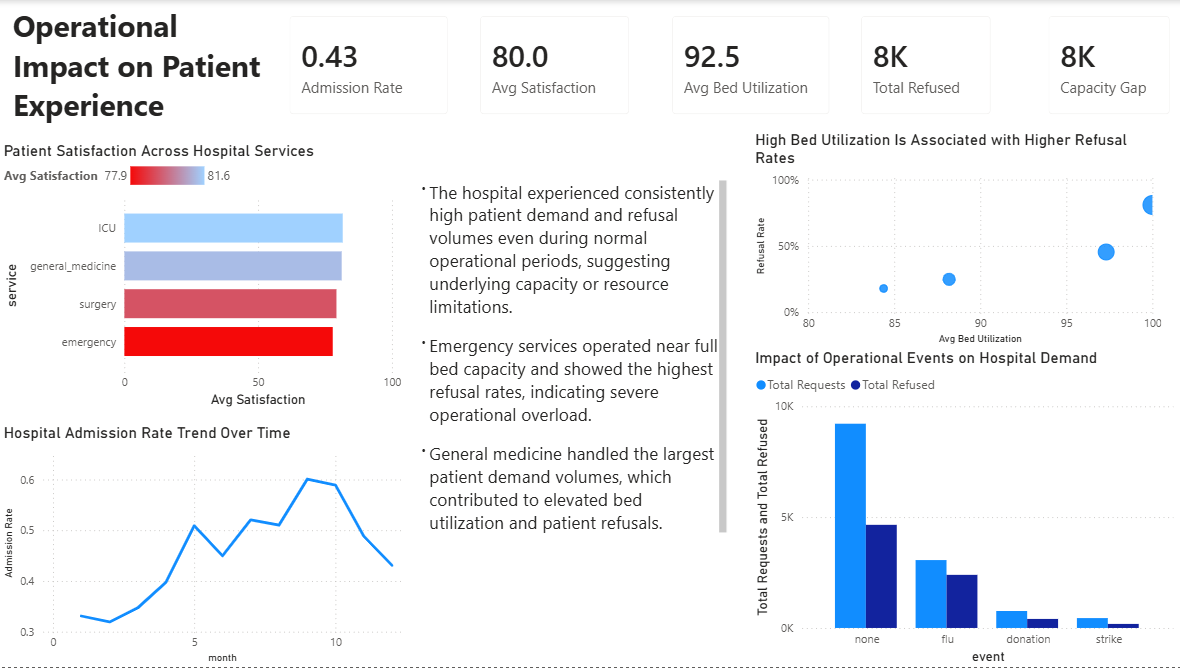

The dashboard page shown, as its layout file describes it:
{"tool":"powerbi","page":{"name":"Page 3","canvas":[1280,720],"ordinal":2},"visuals":[{"type":"textbox","box":[9.7,0,286.6,152.2],"z":0},{"type":"cardVisual","fields":{"Data":["measures (1).Avg Satisfaction"]},"box":[502,0,195.9,140.9],"z":1000},{"type":"cardVisual","fields":{"Data":["measures (1).Admission Rate"]},"box":[296.3,0,205.6,140.9],"z":2000},{"type":"cardVisual","fields":{"Data":["measures (1).Avg Bed Utilization"]},"box":[709.2,0,204,140.9],"z":3000},{"type":"cardVisual","fields":{"Data":["measures (1).Total Refused"]},"box":[913.2,0,174.9,140.9],"z":4000},{"type":"cardVisual","fields":{"Data":["measures (1).Capacity Gap"]},"box":[1115.6,0,165.2,140.9],"z":5000},{"type":"barChart","title":"Patient Satisfaction Across Hospital Services","fields":{"Category":["hospital_operations_cleaned.service"],"Y":["measures (1).Avg Satisfaction"]},"box":[0,152.2,438.8,291.5],"z":6000},{"type":"lineChart","title":"Hospital Admission Rate Trend Over Time","fields":{"Y":["measures (1).Admission Rate"],"Category":["hospital_operations_cleaned.month"]},"box":[0,456.6,438.8,263.9],"z":7000},{"type":"scatterChart","title":"High Bed Utilization Is Associated with Higher Refusal Rates","fields":{"X":["measures (1).Avg Bed Utilization"],"Y":["measures (1).Refusal Rate"],"Size":["measures (1).Total Requests"],"Category":["hospital_operations_cleaned.service"]},"box":[811.2,140.9,448.5,234.8],"z":8000},{"type":"clusteredColumnChart","title":"Impact of Operational Events on Hospital Demand","fields":{"Category":["hospital_operations_cleaned.event"],"Y":["measures (1).Total Requests","measures (1).Total Refused"]},"box":[811.2,375.7,461.5,344.9],"z":9000},{"type":"textbox","box":[442,152.2,319,437.2],"z":10000}]}

Visuals, with their boxes in screenshot pixels (x1, y1, x2, y2), scaled from the page's 1280x720 canvas onto the 1180x668 screenshot:
textbox: 9,0,273,141
cardVisual - measures (1).Avg Satisfaction: 463,0,643,131
cardVisual - measures (1).Admission Rate: 273,0,463,131
cardVisual - measures (1).Avg Bed Utilization: 654,0,842,131
cardVisual - measures (1).Total Refused: 842,0,1003,131
cardVisual - measures (1).Capacity Gap: 1028,0,1179,131
"Patient Satisfaction Across Hospital Services" barChart: 0,141,405,412
"Hospital Admission Rate Trend Over Time" lineChart: 0,424,405,667
"High Bed Utilization Is Associated with Higher Refusal Rates" scatterChart: 748,131,1161,349
"Impact of Operational Events on Hospital Demand" clusteredColumnChart: 748,349,1173,667
textbox: 407,141,702,547
